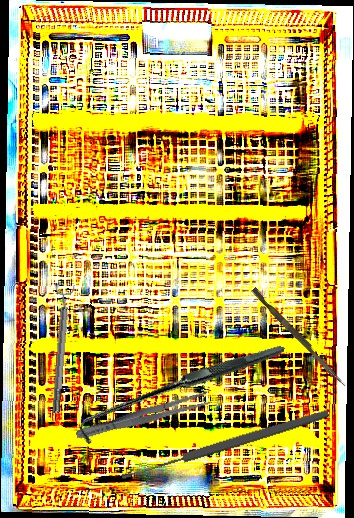Dressing Forceps: (74, 389, 211, 444)
Fixation Ring: (44, 283, 77, 414)
Hook Surgical: (76, 291, 285, 496)
Pusher: (249, 287, 350, 388)
Surgical Spoon: (119, 407, 331, 483)
